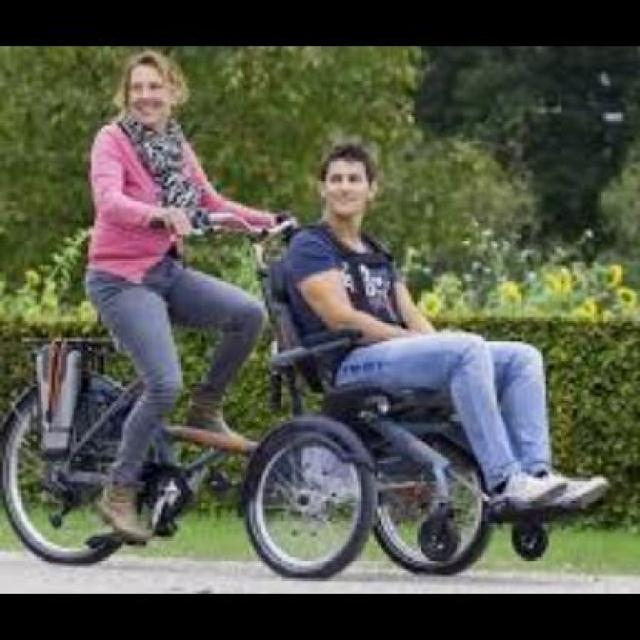wheelchairs: (244, 230, 613, 581)
